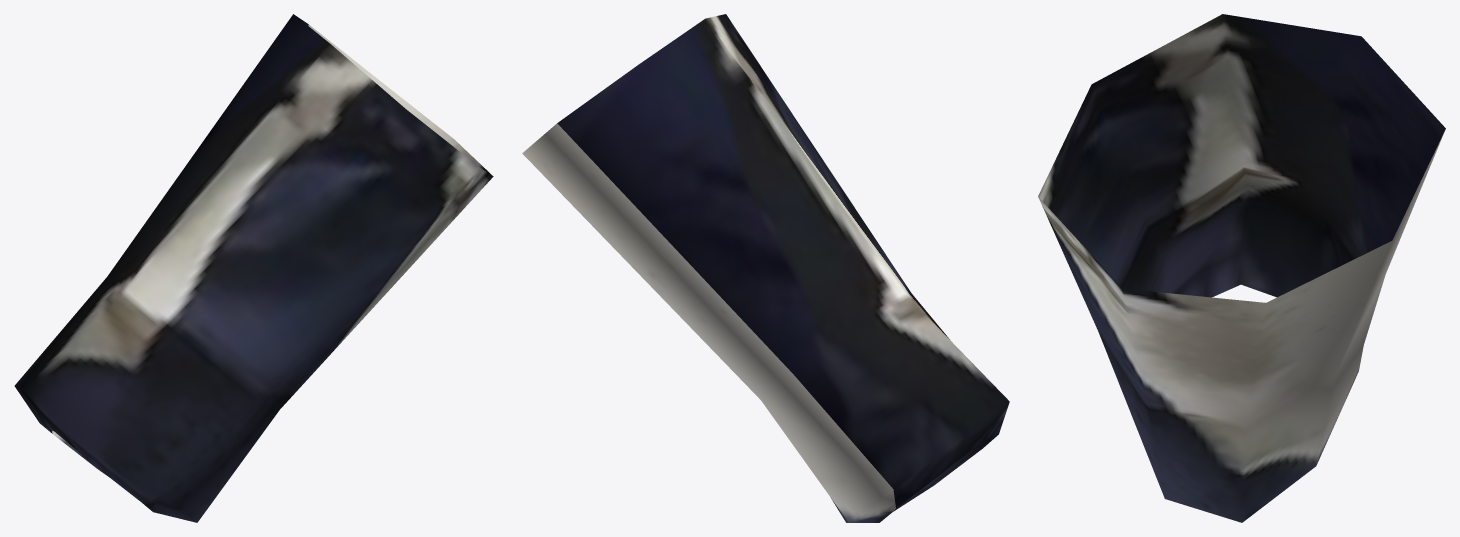
File: AnteBrazoD.obj
3 views of the same model, side by side, from view 1: azimuth 30°, elevation 25°; view 2: azimuth 150°, elevation 25°; view 3: azimuth 270°, elevation 25° (orthographic). The views are drawn at different scales.
Parts seen in each view (by area): view 1: AnteBrazoD; view 2: AnteBrazoD; view 3: AnteBrazoD.
Part boxes in pixels (x1,y1,x2,y2): AnteBrazoD: [14, 14, 493, 522]; AnteBrazoD: [522, 14, 1009, 522]; AnteBrazoD: [1038, 14, 1445, 522].
Bounding box in the file's own units: 0.9426 × 0.9001 × 0.5516.
1 material, 1 textured.
